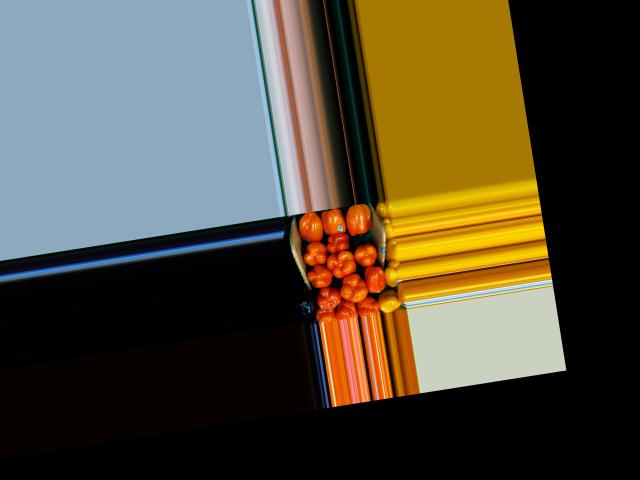bell_pepper: (382, 256, 401, 289)
